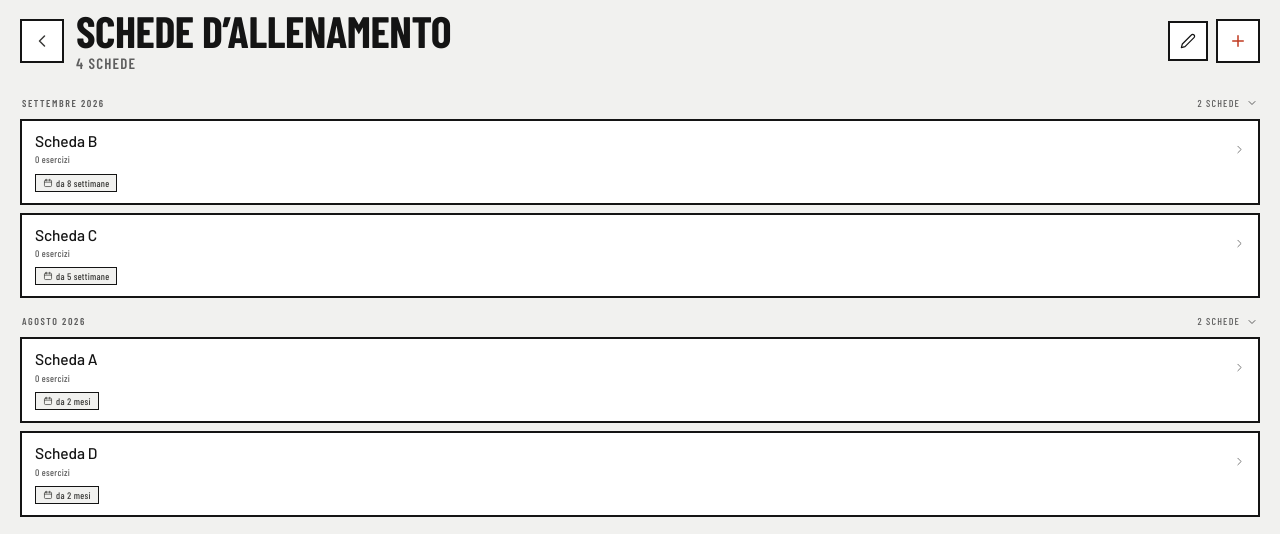
Test: le schede per mese e anno › un mese si richiude toccandone il titolo, e si riapre
Step 1. Click the button "Agosto 2026 2 schede" → point(54, 321), box [20,306,1260,338]
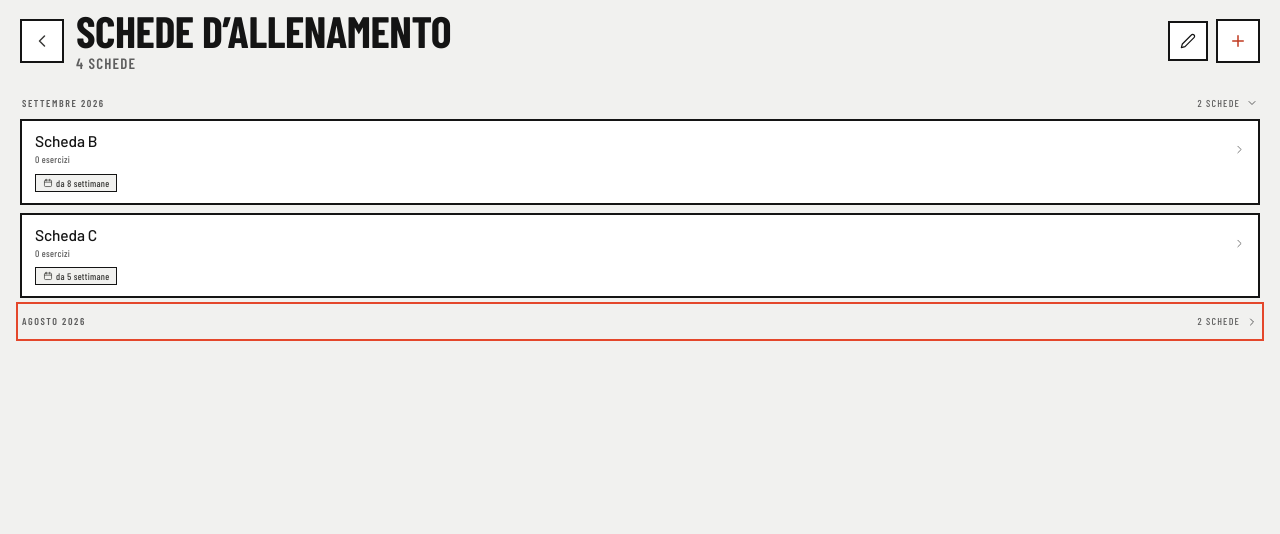
Expected: the text "Scheda B" is shown, [35,132,98,150]
Expected: the text "Scheda A" is gone
Step 2. Click the button "Agosto 2026 2 schede" → point(54, 321), box [20,306,1260,338]
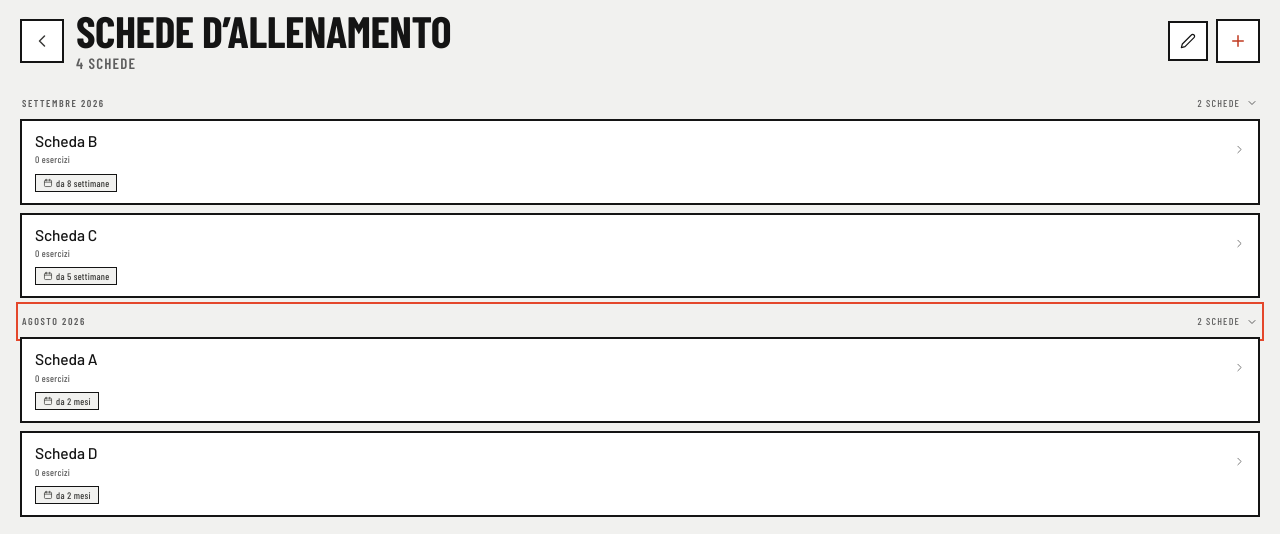
Expected: the text "Scheda A" is shown, [35,350,98,369]
